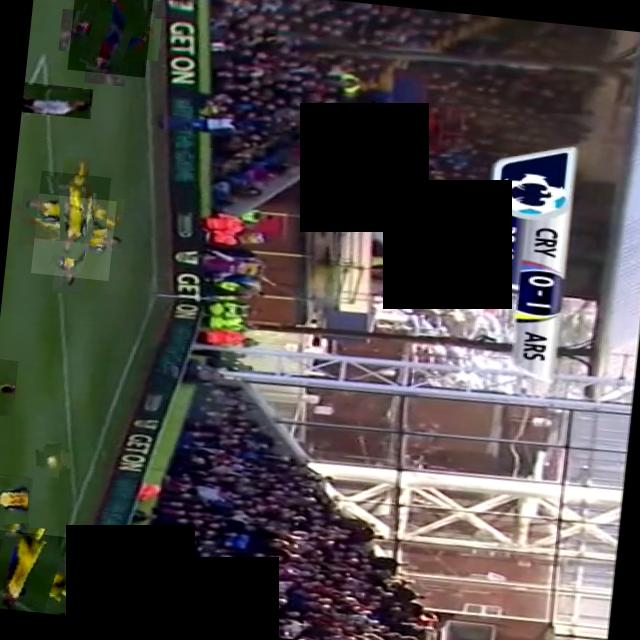ball: (36, 443, 66, 474)
referee: (20, 82, 92, 118)
soccer-player: (30, 192, 116, 280), (65, 0, 151, 77), (0, 528, 72, 615), (33, 170, 110, 245), (0, 471, 32, 533), (0, 358, 17, 416)
